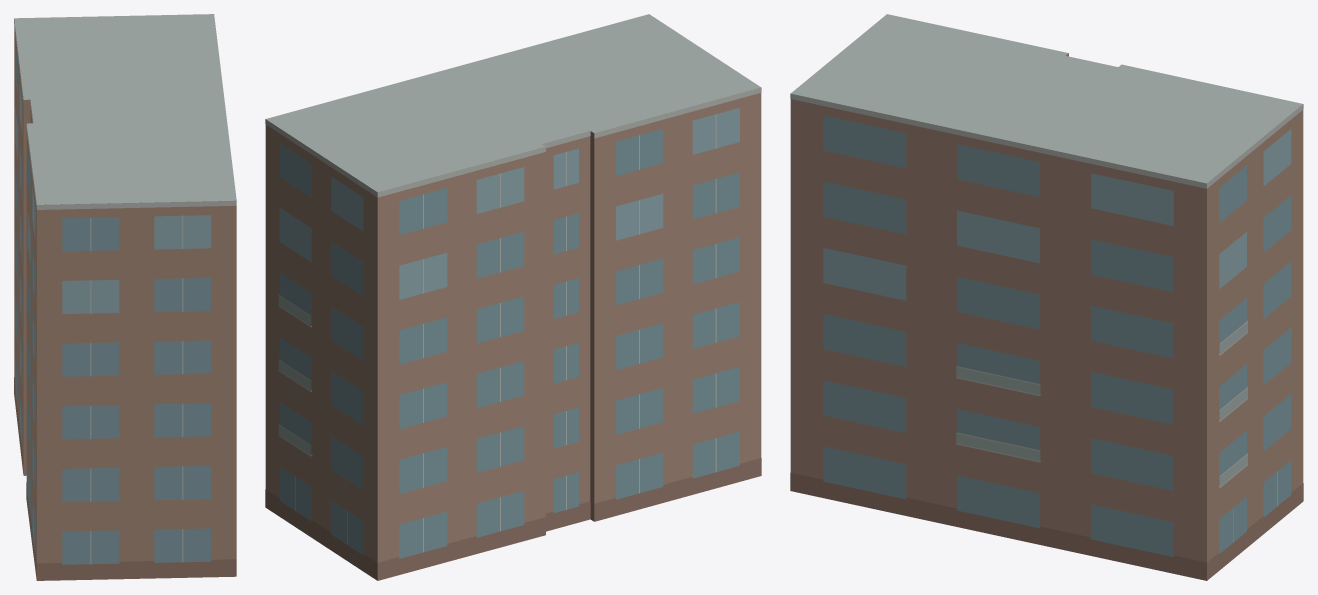
The model's file is survey-upis-32554879.glb.
3 views of the same model, side by side, from view 1: azimuth 30°, elevation 25°; view 2: azimuth 150°, elevation 25°; view 3: azimuth 270°, elevation 25° (orthographic). The views are drawn at different scales.
Visible parts, largest first — view 1: survey-upis-32554879.tmp; view 2: survey-upis-32554879.tmp; view 3: survey-upis-32554879.tmp.
Boxes of the visible parts, x1,y1,x2,y2 form: survey-upis-32554879.tmp: [14, 14, 236, 580]; survey-upis-32554879.tmp: [265, 14, 761, 580]; survey-upis-32554879.tmp: [790, 14, 1303, 580].
Bounding box in the file's own units: 16.66 × 18.2 × 21.3.
